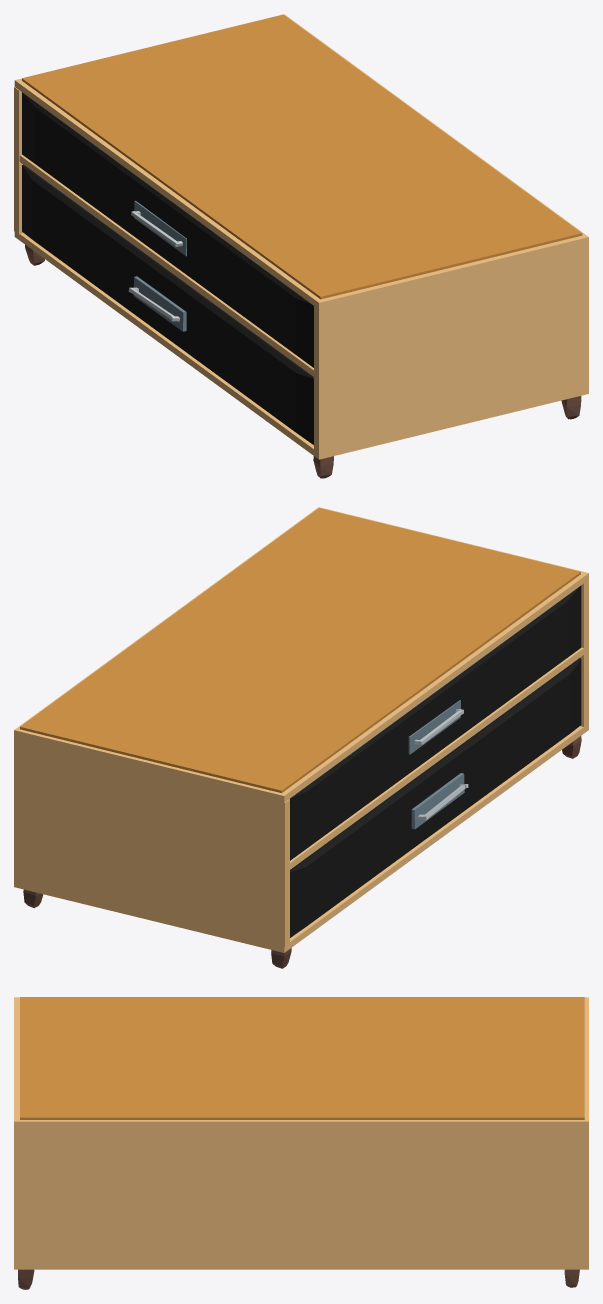
File: TvStand.fbx
3 renders of one model, top to bottom at view 1: azimuth 30°, elevation 25°; view 2: azimuth 150°, elevation 25°; view 3: azimuth 270°, elevation 25°, orthographic. The views are drawn at different scales.
Parts seen in each view (by area): view 1: mesh_155983971, mesh_1230677311, group_2049690391, group_718206709, mesh_903478763, mesh_496201576, mesh_395119298, mesh_2107260730, mesh_1003121135; view 2: mesh_155983971, mesh_1003121135, group_2049690391, group_718206709, mesh_903478763, mesh_496201576, mesh_395119298, mesh_2107260730, mesh_1230677311; view 3: mesh_2107260730, mesh_155983971, mesh_903478763.
Boxes of the visible parts, bbox=[...] form: mesh_155983971: bbox=[22, 14, 582, 299]; mesh_1230677311: bbox=[314, 245, 582, 453]; group_2049690391: bbox=[22, 164, 313, 444]; group_718206709: bbox=[22, 92, 313, 367]; mesh_903478763: bbox=[14, 78, 582, 309]; mesh_496201576: bbox=[14, 232, 582, 459]; mesh_395119298: bbox=[19, 154, 582, 380]; mesh_2107260730: bbox=[284, 14, 588, 395]; mesh_1003121135: bbox=[14, 87, 23, 234]; mesh_155983971: bbox=[20, 508, 580, 793]; mesh_1003121135: bbox=[20, 738, 289, 947]; group_2049690391: bbox=[290, 658, 581, 937]; group_718206709: bbox=[290, 585, 581, 860]; mesh_903478763: bbox=[19, 508, 588, 802]; mesh_496201576: bbox=[20, 724, 588, 952]; mesh_395119298: bbox=[18, 647, 583, 873]; mesh_2107260730: bbox=[14, 507, 324, 888]; mesh_1230677311: bbox=[580, 580, 588, 726]; mesh_2107260730: bbox=[14, 1118, 588, 1269]; mesh_155983971: bbox=[20, 997, 584, 1119]; mesh_903478763: bbox=[14, 997, 588, 1118].
Size of the model in its own units: 358 by 223 by 665.
